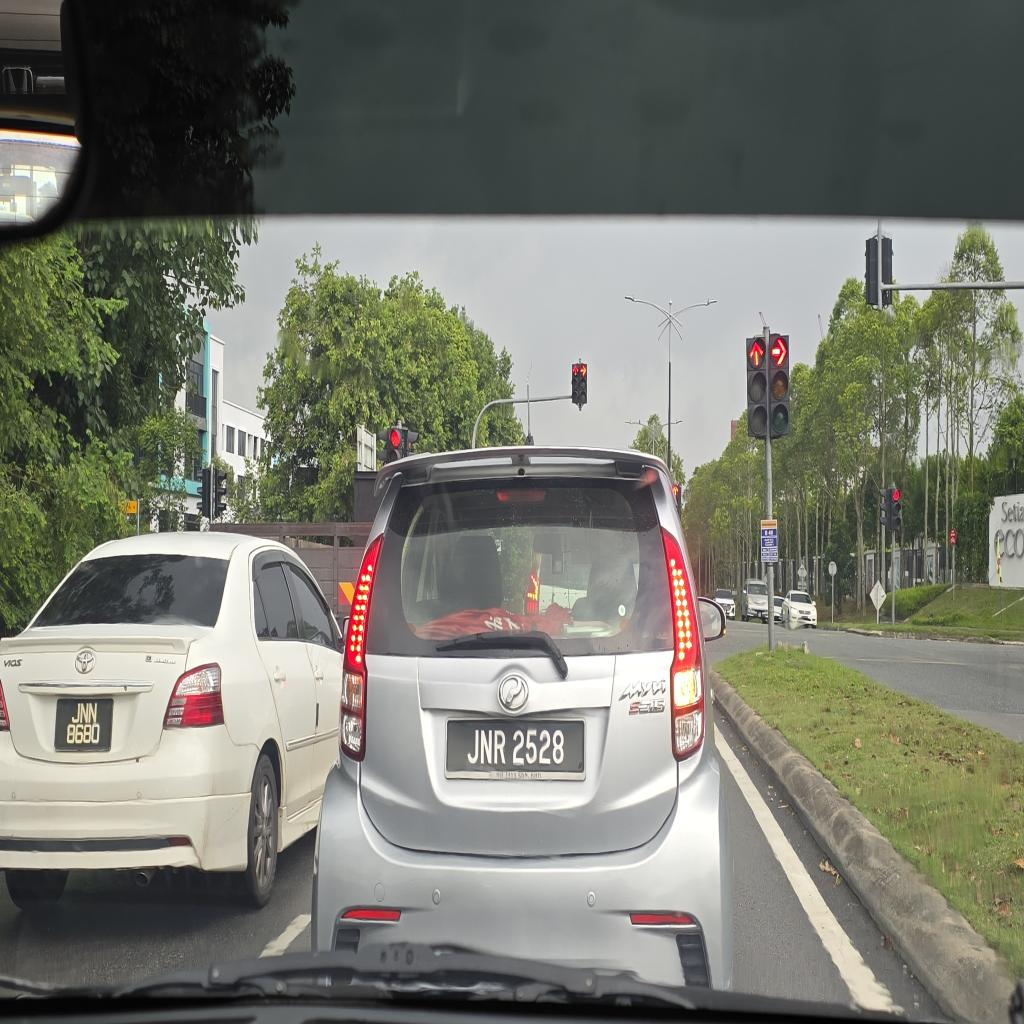car: (312, 447, 732, 988), (0, 533, 342, 907)
car plate: (446, 719, 584, 780), (55, 698, 113, 751)
